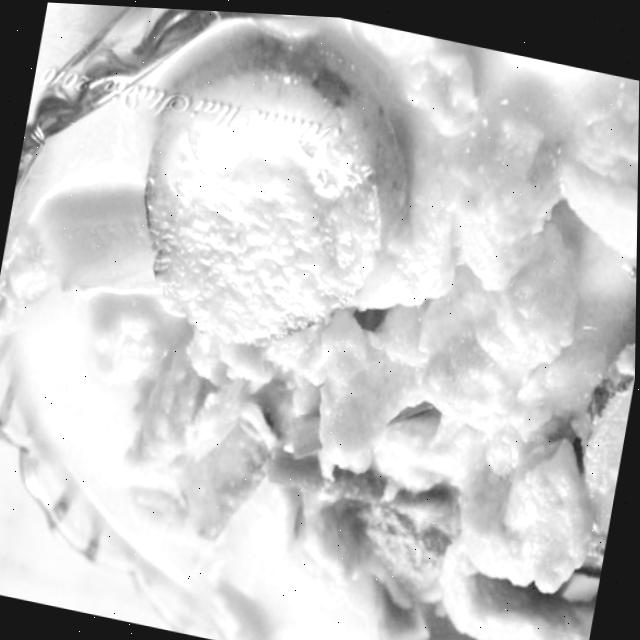汤锅炖物: (12, 1, 640, 640)
